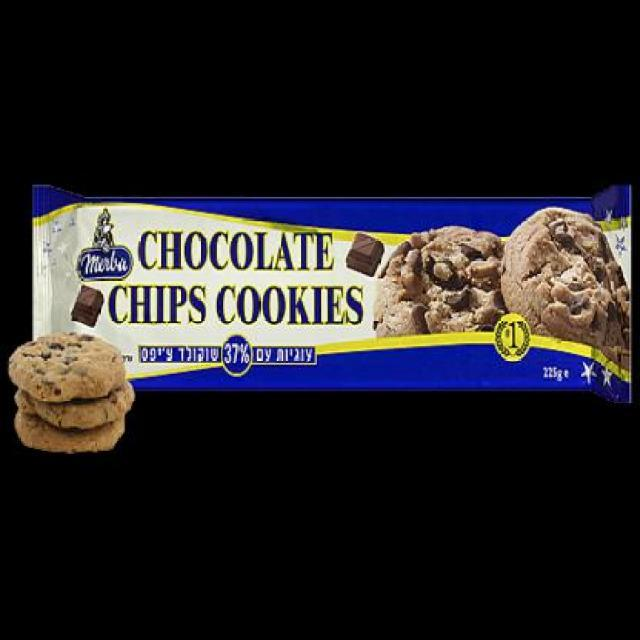Cookie: (32, 186, 626, 400), (502, 206, 632, 372), (8, 326, 134, 454)
